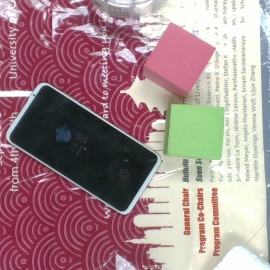phone: (6, 81, 161, 219)
